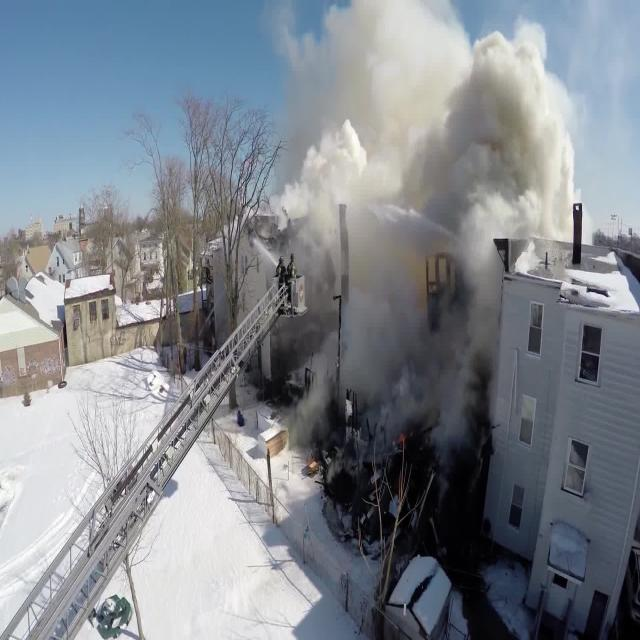Smoke: (265, 2, 580, 468)
